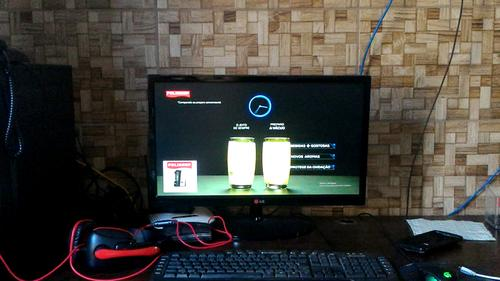Polishop #1: (162, 159, 198, 194)
